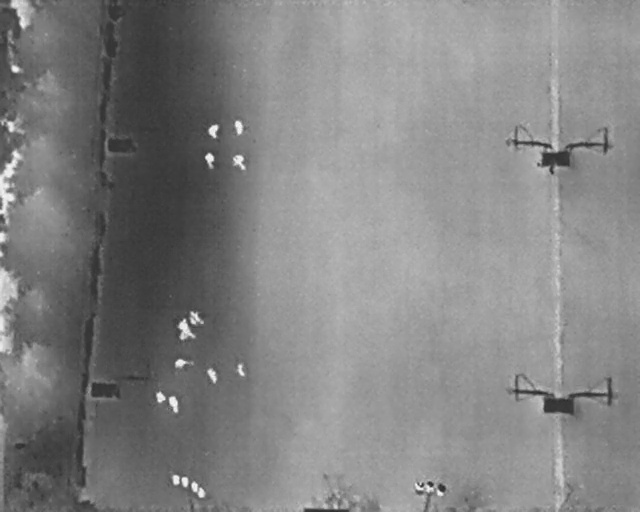Person: (175, 315, 197, 342), (203, 364, 221, 386), (202, 151, 218, 172), (165, 394, 181, 415), (234, 359, 249, 380), (231, 154, 246, 172), (232, 118, 245, 137), (173, 357, 193, 369), (206, 122, 219, 140), (188, 310, 204, 324), (154, 391, 167, 404)
